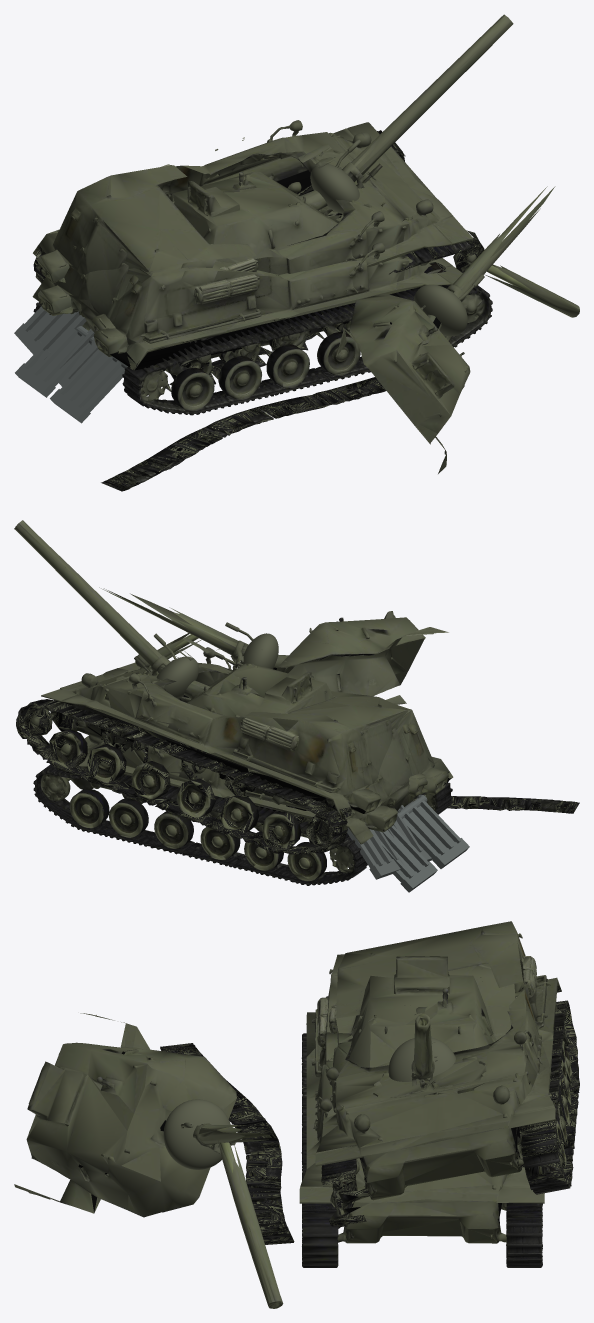
File: spg_long_range.glb
3 views of the same model, one above another, from view 1: azimuth 30°, elevation 25°; view 2: azimuth 150°, elevation 25°; view 3: azimuth 270°, elevation 25° (orthographic). The views are drawn at different scales.
Parts seen in each view (by area): view 1: WRECK_hull_hull, hull_hull, hull_rubber, WRECK_turret_hull, turret_hull, WRECK_hull_rubber, turret_metal, WRECK_turret_metal; view 2: WRECK_hull_hull, WRECK_hull_rubber, hull_rubber, hull_hull, WRECK_turret_hull, turret_hull, turret_metal, WRECK_turret_metal; view 3: WRECK_hull_hull, WRECK_turret_hull, hull_hull, WRECK_hull_rubber, turret_hull, WRECK_turret_metal, hull_rubber, turret_metal.
Part boxes in pixels (left/top/right/bottom): WRECK_hull_hull: left=14, top=120, right=472, bottom=386; hull_hull: left=15, top=182, right=462, bottom=423; hull_rubber: left=32, top=285, right=492, bottom=415; WRECK_turret_hull: left=336, top=294, right=470, bottom=473; turret_hull: left=169, top=172, right=342, bottom=282; WRECK_hull_rubber: left=33, top=130, right=484, bottom=491; turret_metal: left=310, top=14, right=513, bottom=213; WRECK_turret_metal: left=413, top=186, right=579, bottom=336; WRECK_hull_hull: left=41, top=637, right=432, bottom=879; WRECK_hull_rubber: left=16, top=695, right=579, bottom=854; hull_rubber: left=33, top=764, right=453, bottom=885; hull_hull: left=71, top=680, right=469, bottom=892; WRECK_turret_hull: left=273, top=611, right=448, bottom=704; turret_hull: left=179, top=663, right=334, bottom=731; turret_metal: left=14, top=520, right=198, bottom=698; WRECK_turret_metal: left=99, top=587, right=278, bottom=670; WRECK_hull_hull: left=315, top=921, right=559, bottom=1200; WRECK_turret_hull: left=14, top=1013, right=236, bottom=1217; hull_hull: left=299, top=954, right=544, bottom=1243; WRECK_hull_rubber: left=160, top=986, right=579, bottom=1244; turret_hull: left=326, top=956, right=507, bottom=1067; WRECK_turret_metal: left=163, top=1099, right=283, bottom=1308; hull_rubber: left=301, top=1033, right=542, bottom=1267; turret_metal: left=388, top=1014, right=455, bottom=1088.
Bounding box in the file's own units: 9.47 × 4.83 × 7.86.
Materials: 1 (1 with a texture image).
